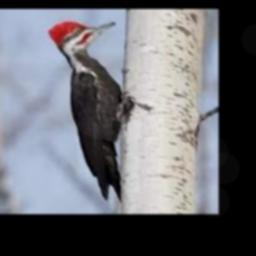Woodpecker: (48, 22, 131, 203)
